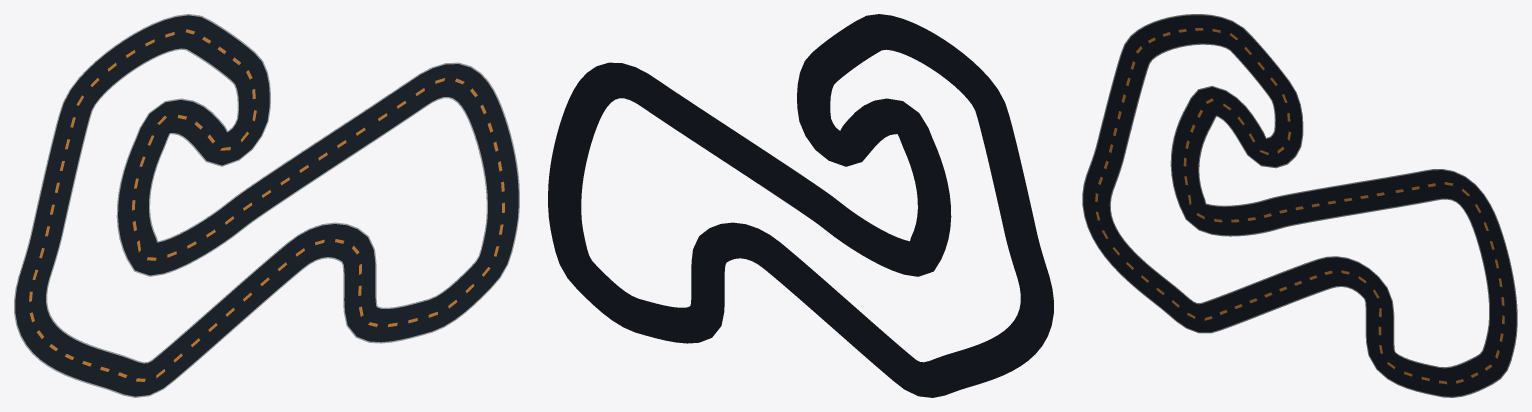
Rendered from track.obj.
The picture shows the model from 3 angles, left to right: view 1: azimuth 30°, elevation 25°; view 2: azimuth 150°, elevation 25°; view 3: azimuth 330°, elevation 25°; orthographic projection. The views are drawn at different scales.
Bounding box in the file's own units: 16.21 × 11.64 × 0.002.
